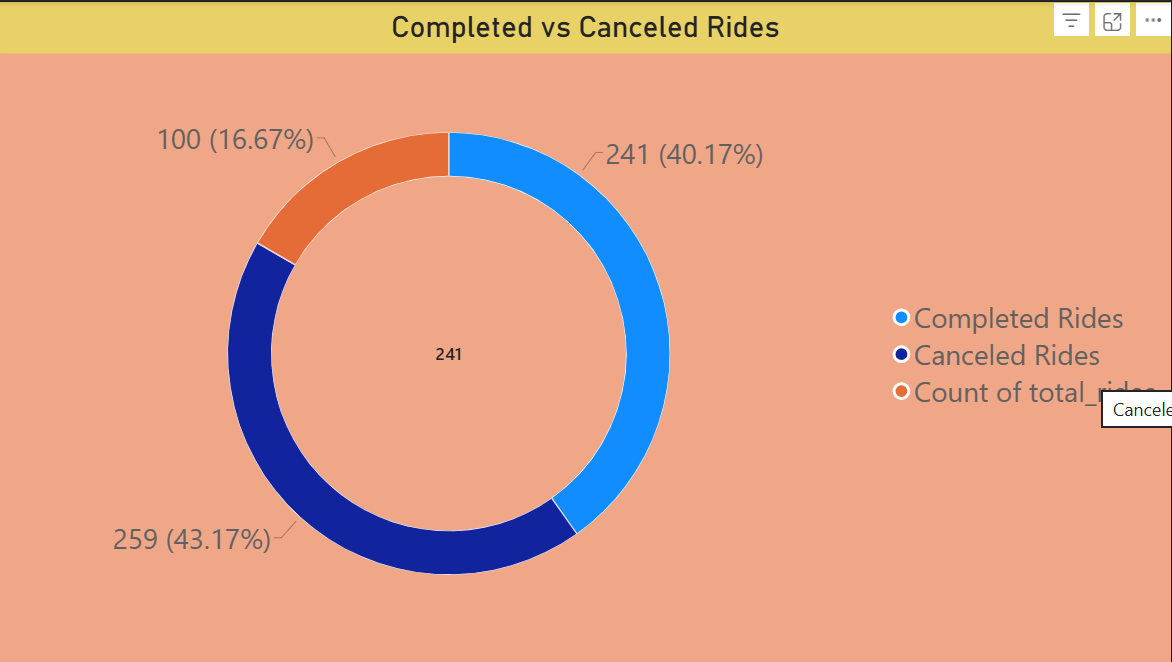

The page's visual inventory and layout, read from the dashboard file:
{"tool":"powerbi","page":{"name":"Page 4","canvas":[1920,1080],"ordinal":4},"visuals":[{"type":"donutChart","title":"Completed vs Canceled Rides","fields":{"Y":["city_dataset2.Completed Rides","city_dataset2.Canceled Rides","CountNonNull(driver_dataset3.total_rides)"]},"box":[9.1,0,1910.2,1078.9],"z":0}]}

Visuals, with their boxes in screenshot pixels (x1, y1, x2, y2), scaled from the page's 1920x1080 canvas onto the 1172x662 screenshot:
"Completed vs Canceled Rides" donutChart: select_region(6, 0, 1171, 661)
